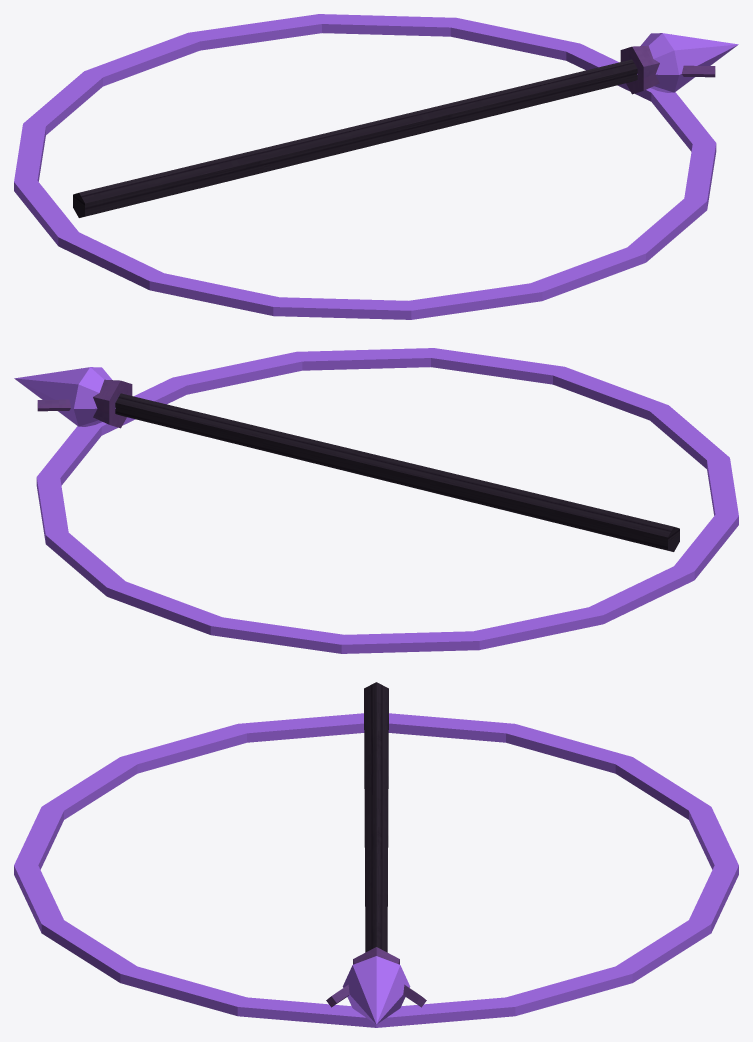
File: loot_staff_g2.glb
3 renders of one model, top to bottom at view 1: azimuth 30°, elevation 25°; view 2: azimuth 150°, elevation 25°; view 3: azimuth 270°, elevation 25°, orthographic. The views are drawn at different scales.
Visible parts, largest first — view 1: loot_staff_g2; view 2: loot_staff_g2; view 3: loot_staff_g2.
Part boxes in pixels (x1,y1,x2,y2): loot_staff_g2: (14, 14, 738, 319); loot_staff_g2: (14, 348, 738, 653); loot_staff_g2: (14, 682, 738, 1027).
Size of the model in its own units: 1.78 by 0.165 by 1.61.
3 materials, 3 textured.
